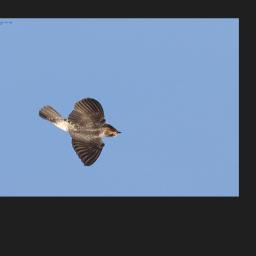Swallow: (37, 97, 125, 168)
